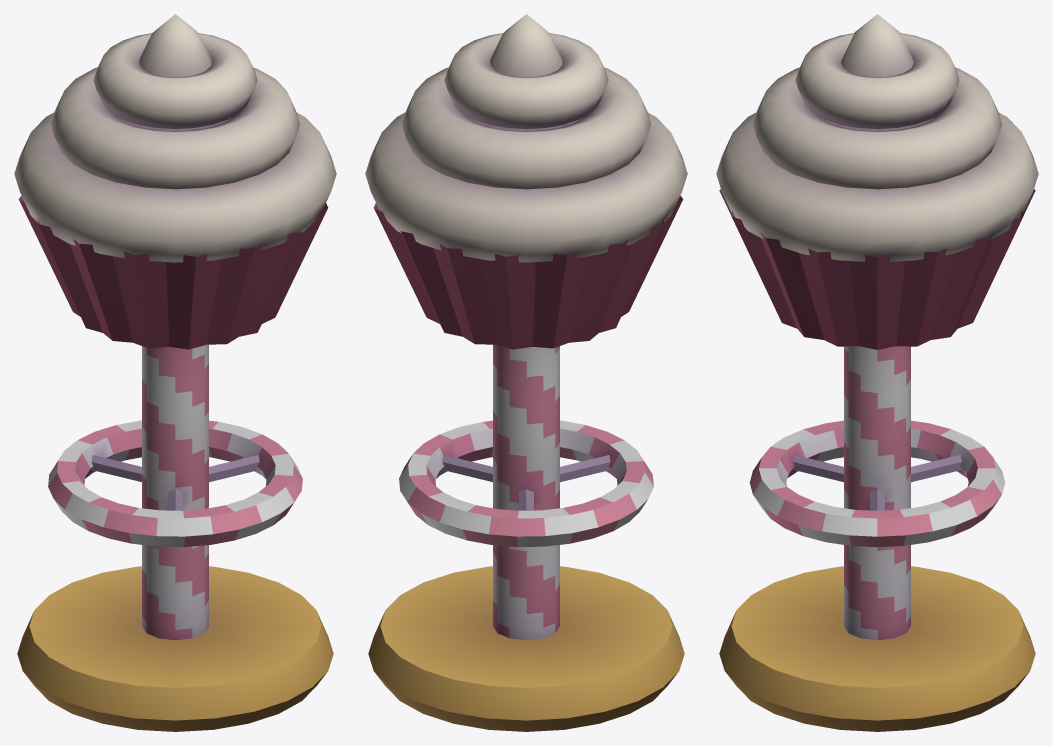
File: stool_candy.glb
3 views of the same model, side by side, from view 1: azimuth 30°, elevation 25°; view 2: azimuth 150°, elevation 25°; view 3: azimuth 270°, elevation 25° (orthographic).
Parts seen in each view (by area): view 1: stool_candy; view 2: stool_candy; view 3: stool_candy.
Part boxes in pixels (x1=…): stool_candy: x1=14, y1=14, x2=336, y2=731; stool_candy: x1=365, y1=14, x2=687, y2=731; stool_candy: x1=716, y1=14, x2=1038, y2=731.
Bounding box in the file's own units: 0.53 × 1.19 × 0.53.
